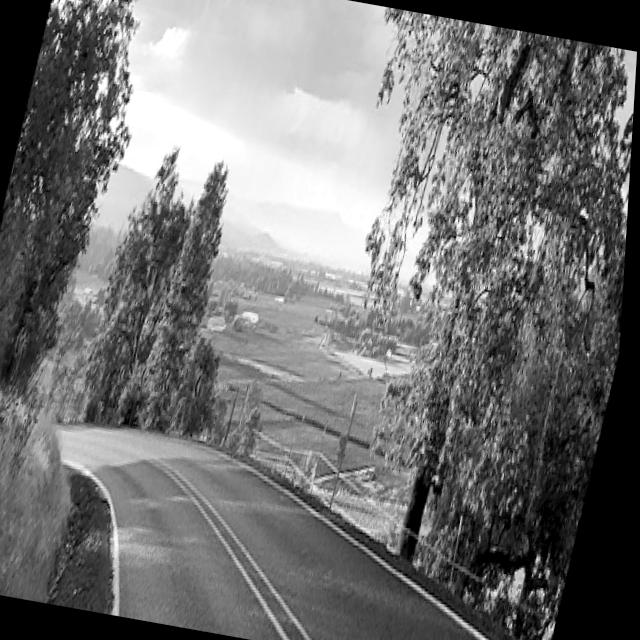cleat: (0, 216, 541, 640)
